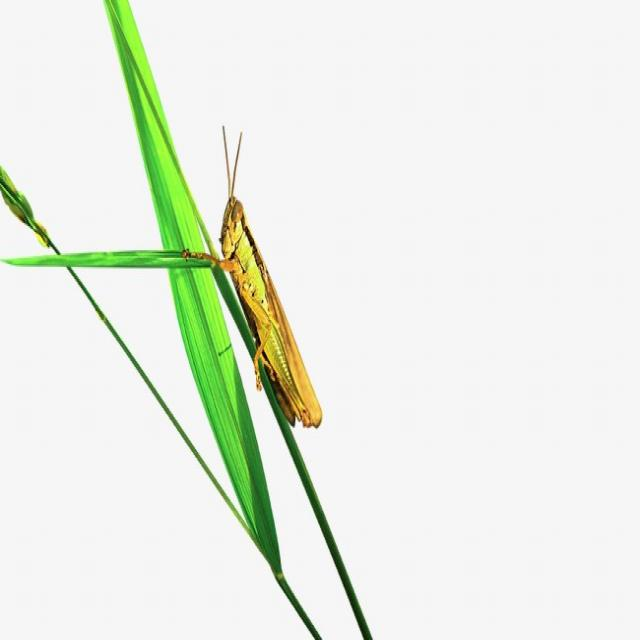ZhaMeng: (202, 110, 337, 465)
